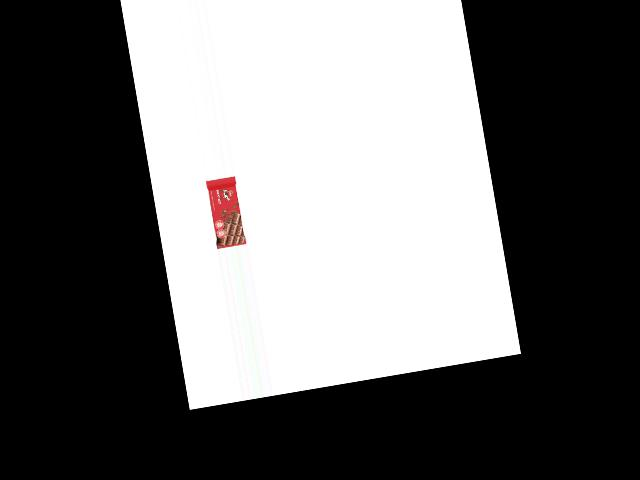chocolate: (205, 174, 246, 249)
